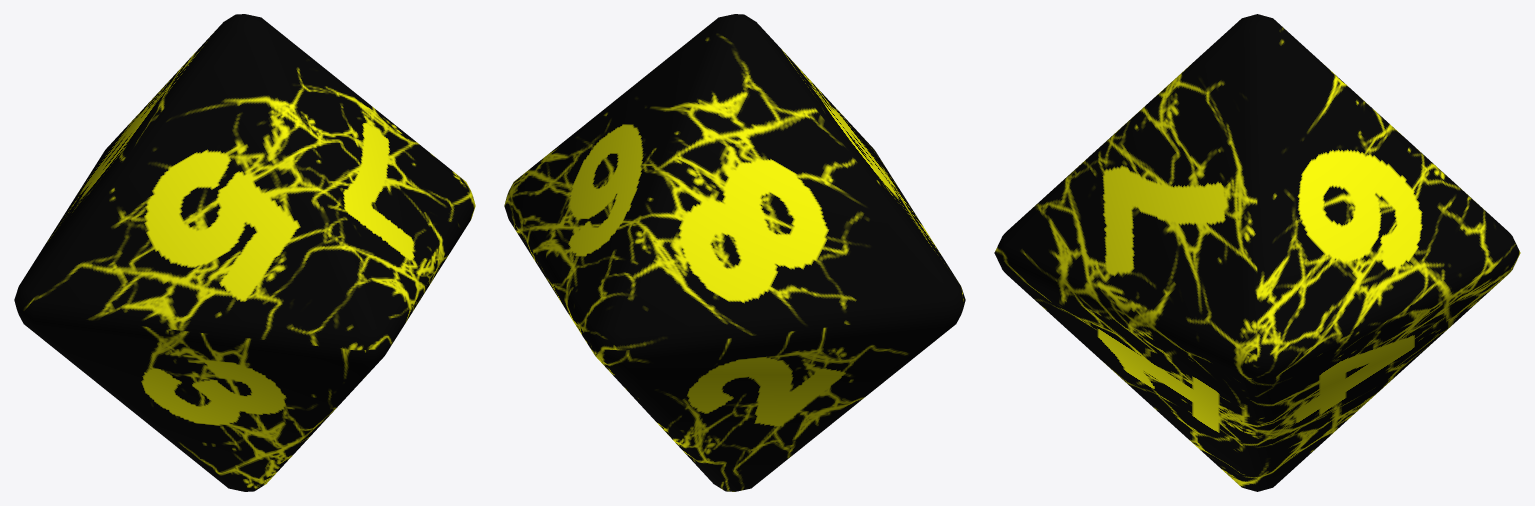
The picture shows the model from 3 angles, left to right: view 1: azimuth 30°, elevation 25°; view 2: azimuth 150°, elevation 25°; view 3: azimuth 270°, elevation 25°; orthographic projection.
Parts seen in each view (by area): view 1: 8Yellow_8Yellow_0; view 2: 8Yellow_8Yellow_0; view 3: 8Yellow_8Yellow_0.
Boxes of the visible parts, <box> form: 8Yellow_8Yellow_0: <box>14,14,475,491</box>; 8Yellow_8Yellow_0: <box>504,14,965,491</box>; 8Yellow_8Yellow_0: <box>994,14,1520,491</box>.
Size of the model in its own units: 1.86 by 1.86 by 1.86.
Materials: 1 (1 with a texture image).
